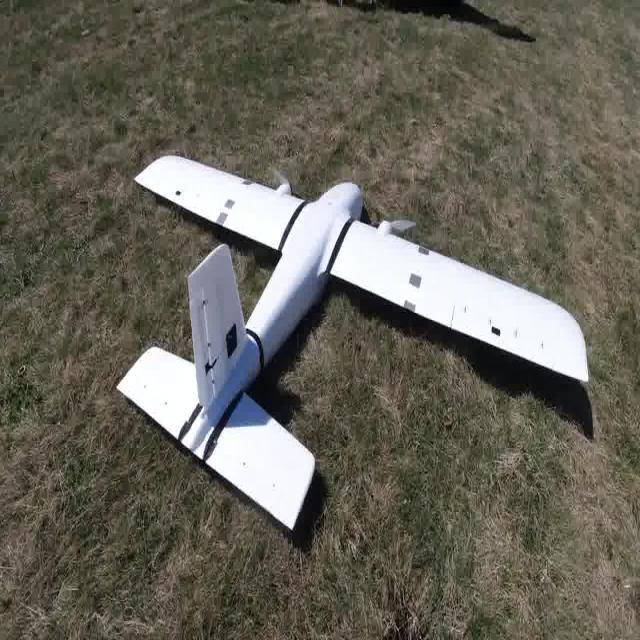iha: (109, 152, 592, 539)
